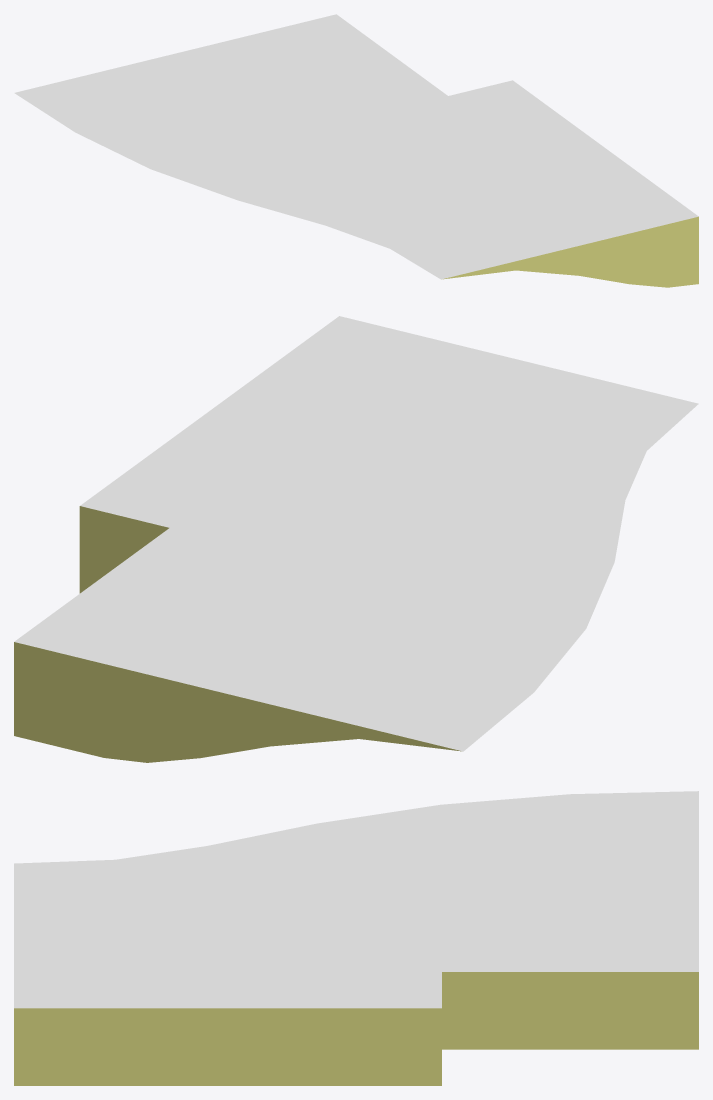
Rendered from Ceiling_Esse_6x8.glb.
3 renders of one model, top to bottom at view 1: azimuth 30°, elevation 25°; view 2: azimuth 150°, elevation 25°; view 3: azimuth 270°, elevation 25°, orthographic. The views are drawn at different scales.
Visible parts, largest first — view 1: Ceiling_Esse_6x8; view 2: Ceiling_Esse_6x8; view 3: Ceiling_Esse_6x8.
Boxes of the visible parts, bbox=[...] form: Ceiling_Esse_6x8: bbox=[14, 14, 698, 287]; Ceiling_Esse_6x8: bbox=[14, 316, 698, 762]; Ceiling_Esse_6x8: bbox=[14, 791, 698, 1085].
Size of the model in its own units: 600 by 100 by 800.
